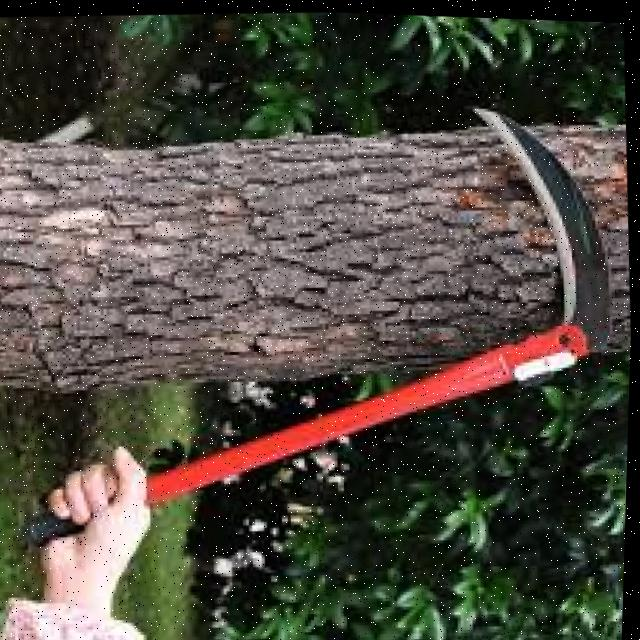sickle: (0, 40, 621, 599)
